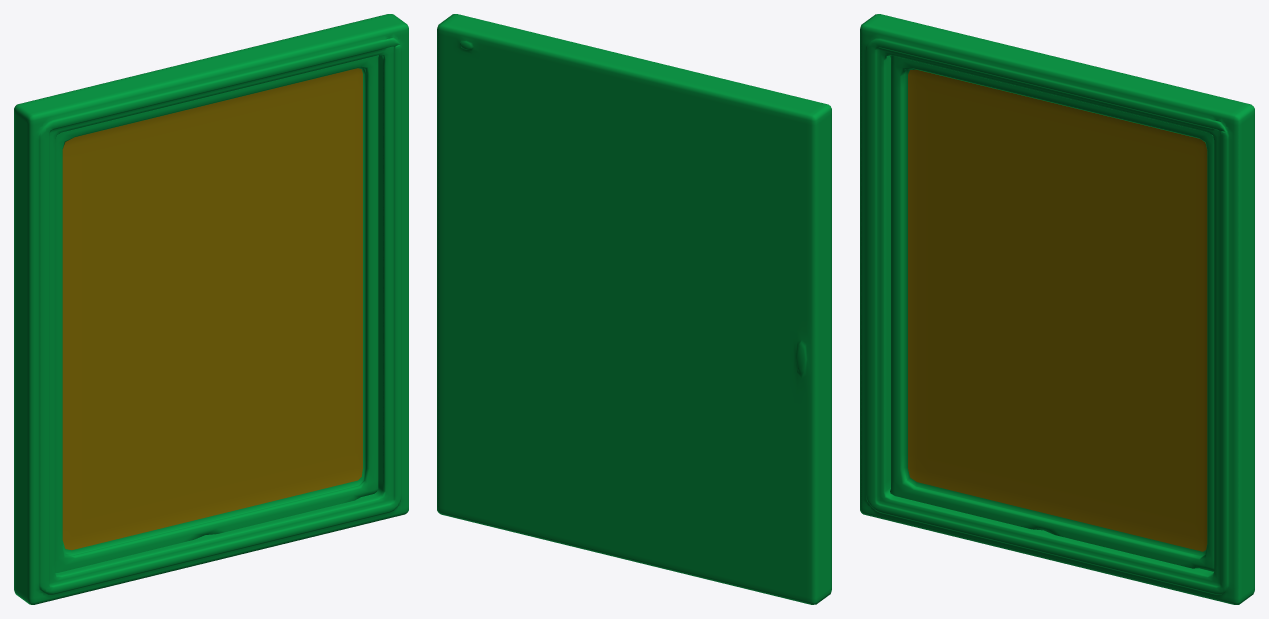
File: PictureFrameHigh.fbx
3 views of the same model, side by side, from view 1: azimuth 30°, elevation 25°; view 2: azimuth 150°, elevation 25°; view 3: azimuth 330°, elevation 25° (orthographic).
Parts seen in each view (by area): view 1: pCube1; view 2: pCube1; view 3: pCube1.
Part boxes in pixels (box(x1,y1,x2,y2)): pCube1: box(14, 14, 408, 604); pCube1: box(437, 14, 831, 604); pCube1: box(860, 14, 1254, 604).
Bounding box in the file's own units: 16.17 × 19.93 × 1.53.
